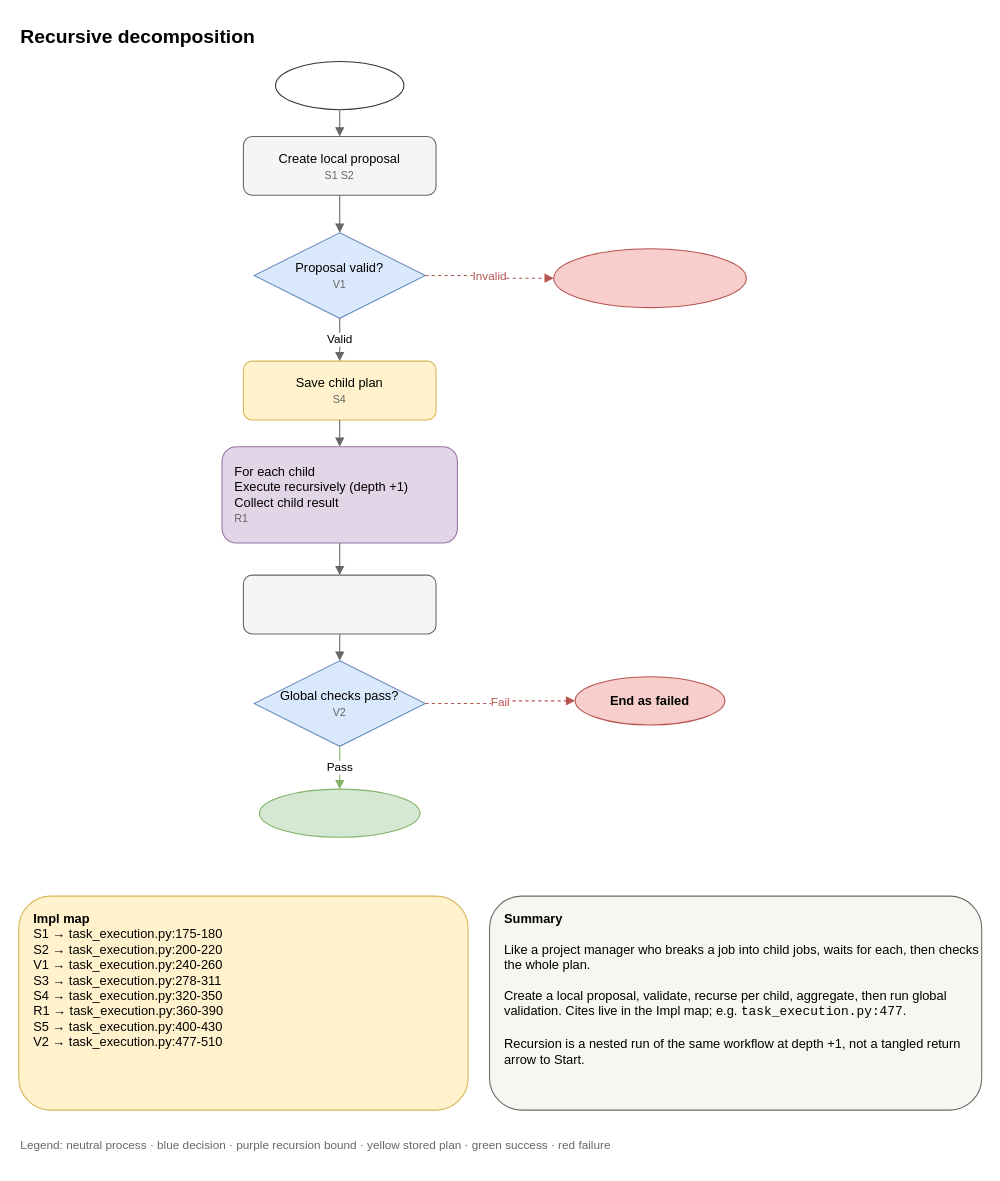
The diagram is 1000 pixels wide and 1181 high, and some of its shapes have lost their labels. The box of each missing label's shape, as (x1, y1, x2, y2) in pixels:
Aggregate child results S5: (242, 574, 436, 634)
Block siblings · End failed S3: (553, 248, 746, 308)
End as successful: (258, 788, 420, 837)
Start: (274, 60, 404, 110)
